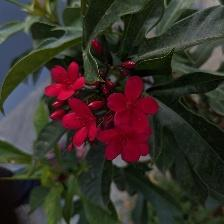jatropha: (107, 75, 159, 133), (97, 127, 155, 163), (64, 99, 98, 146), (47, 62, 86, 102)
